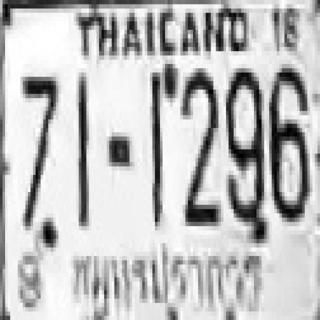N01: (149, 68, 169, 226), (76, 73, 89, 226)
N02: (179, 68, 217, 222)
N06: (268, 64, 309, 218)
N07: (20, 73, 58, 226), (20, 72, 58, 179)
N09: (223, 66, 264, 232)
P57: (67, 238, 266, 320)
